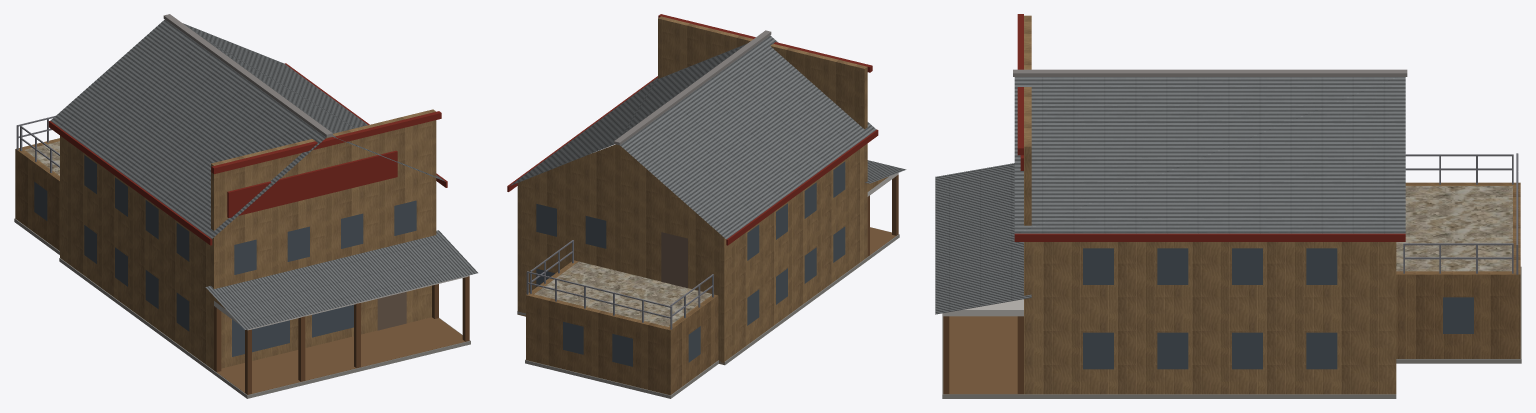
The model's file is cr-feed-store.towns-v1.lod1.glb.
3 views of the same model, side by side, from view 1: azimuth 30°, elevation 25°; view 2: azimuth 150°, elevation 25°; view 3: azimuth 270°, elevation 25° (orthographic). The views are drawn at different scales.
Parts seen in each view (by area): view 1: cr-feed-store; view 2: cr-feed-store; view 3: cr-feed-store.
Boxes of the visible parts, x1,y1,x2,y2 form: cr-feed-store: (14, 14, 477, 398); cr-feed-store: (507, 14, 906, 398); cr-feed-store: (935, 14, 1521, 398).
Bounding box in the file's own units: 10.68 × 9.3 × 18.88.
4 materials, 3 textured.
